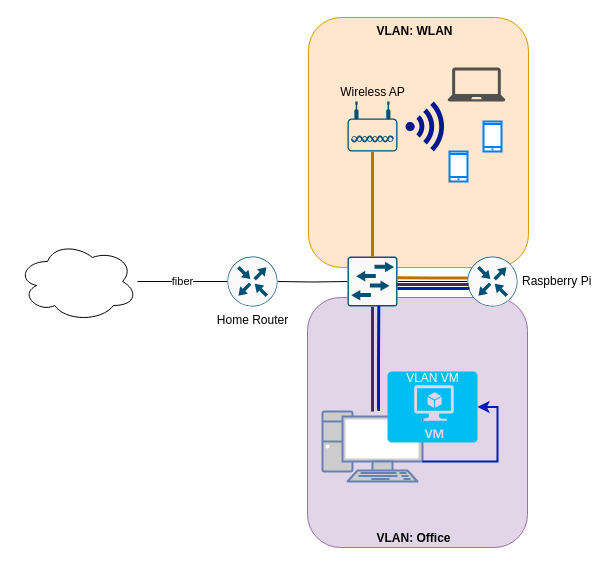
Image size: 609x565. Some labels were removed from this diagram. The shapes that lost their labels are listed below. From the top down, each one's centre as x and y in pixels, then its label:
At (77,281): "Internet".
At (372,281): "Managed Switch".
At (372,446): "Office PC".
